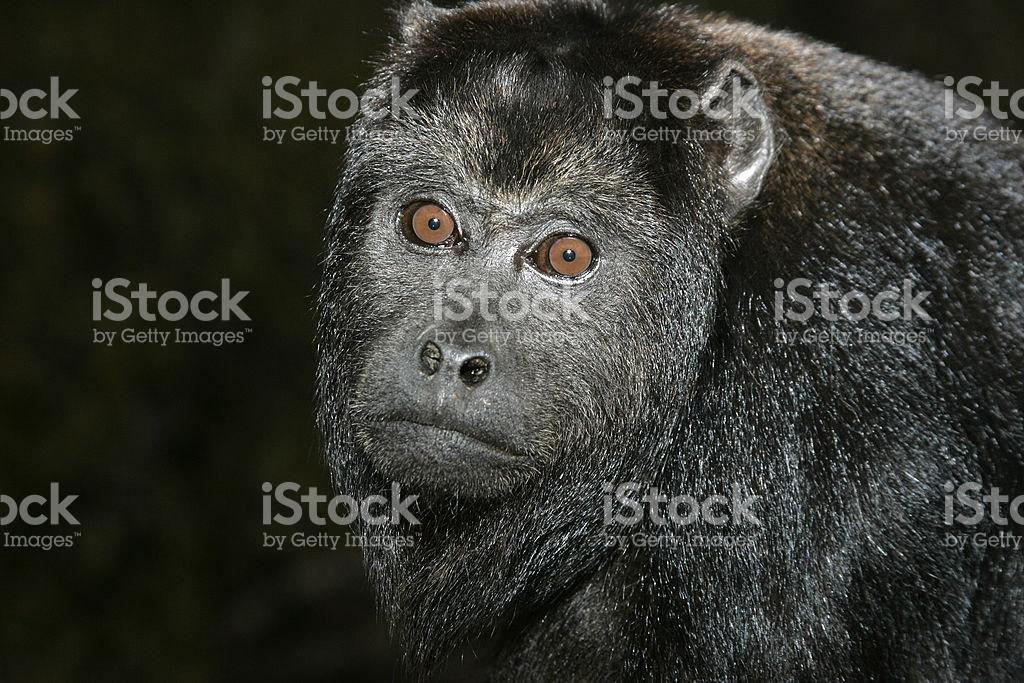monkey: (354, 2, 1024, 683)
